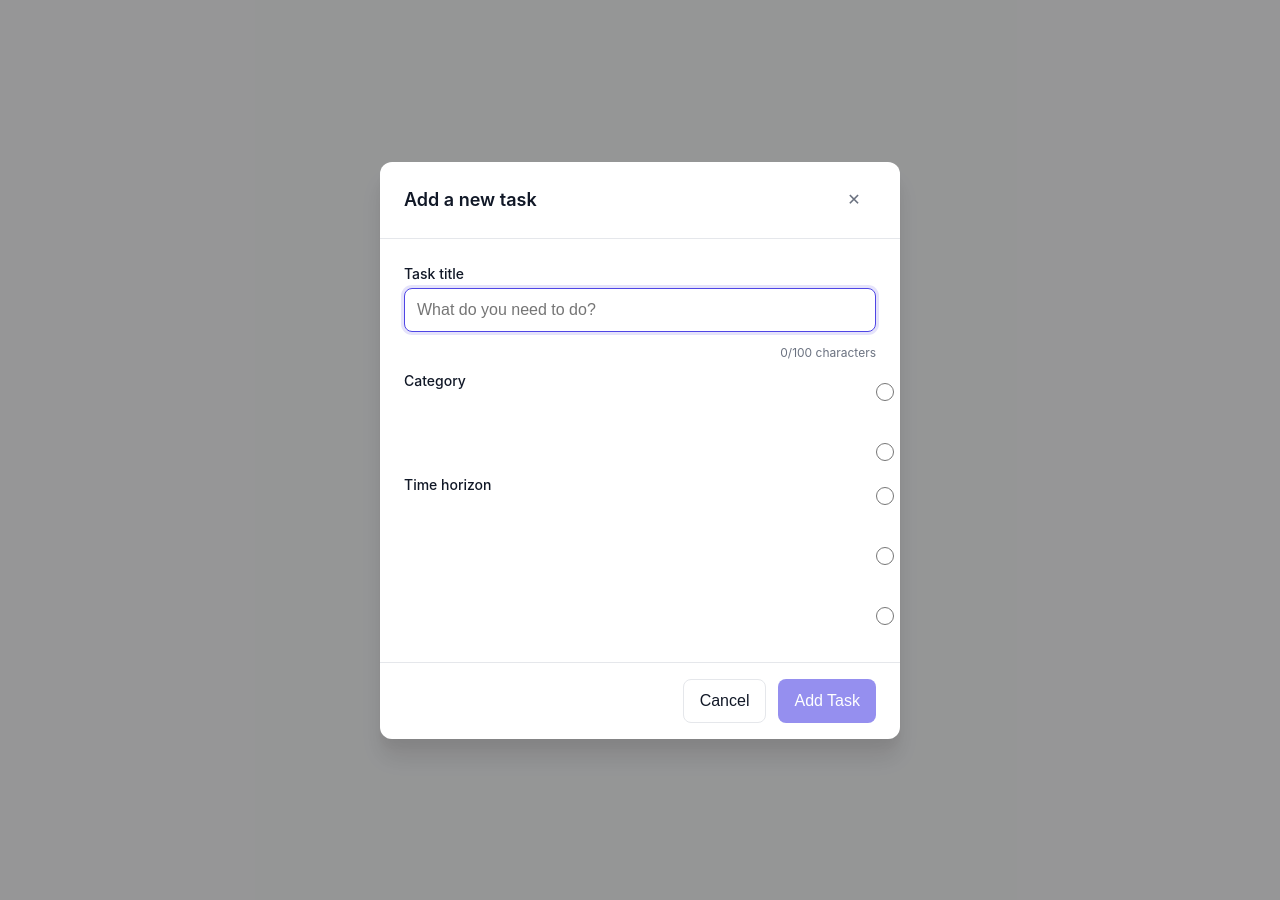
Scenario: CreateTaskModal — submission › supports PROFESSIONAL category and WEEKLY timeframe
This screenshot has width=1280, height=900.
Type "Work task" into the field with placeholder "What do you need to do?" at coordinates (640, 310), box [404, 288, 876, 332]
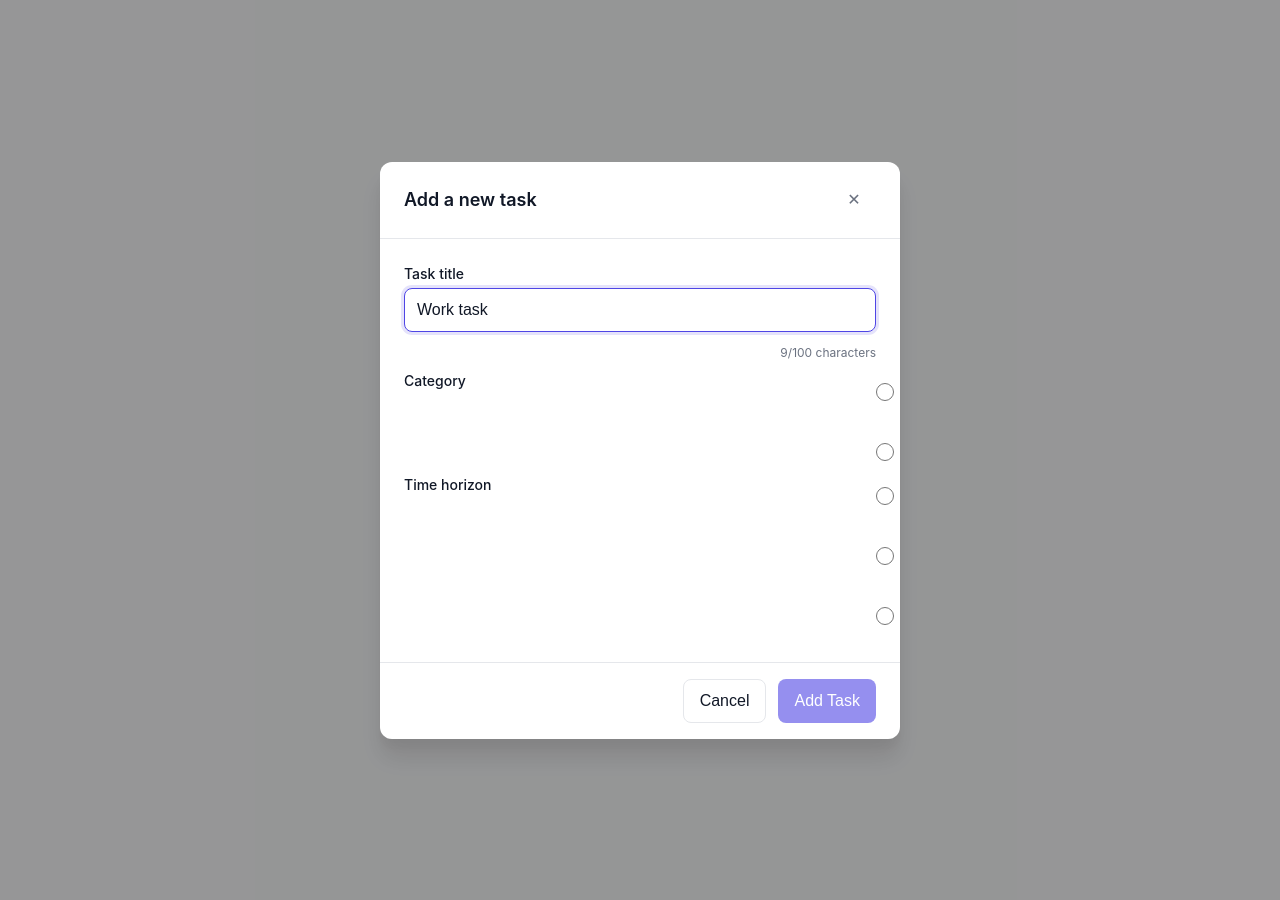
Click the radio button labelled "Professional" at coordinates (885, 452), box [876, 442, 894, 460]
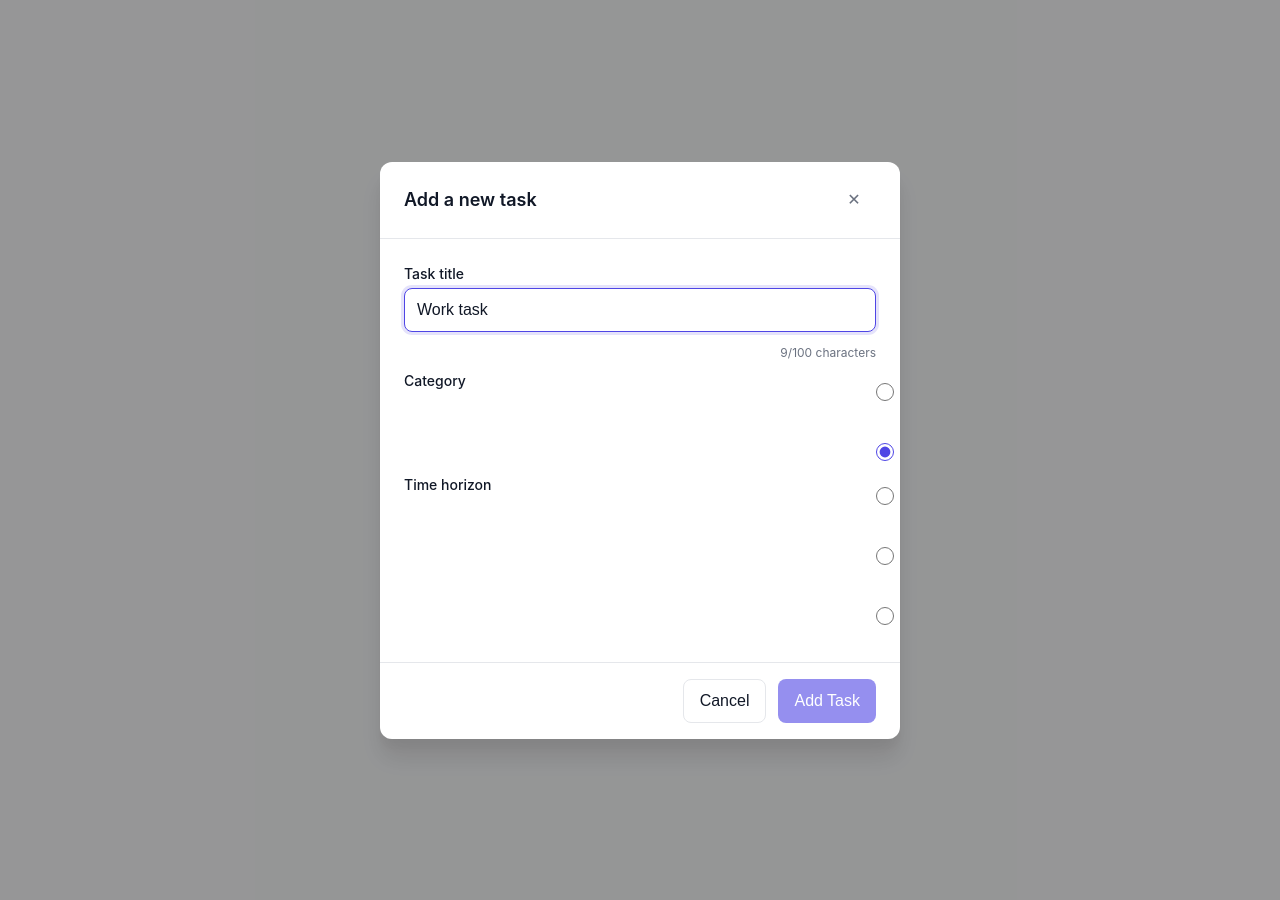
Click the radio button labelled "Weekly" at coordinates (885, 556), box [876, 546, 894, 564]
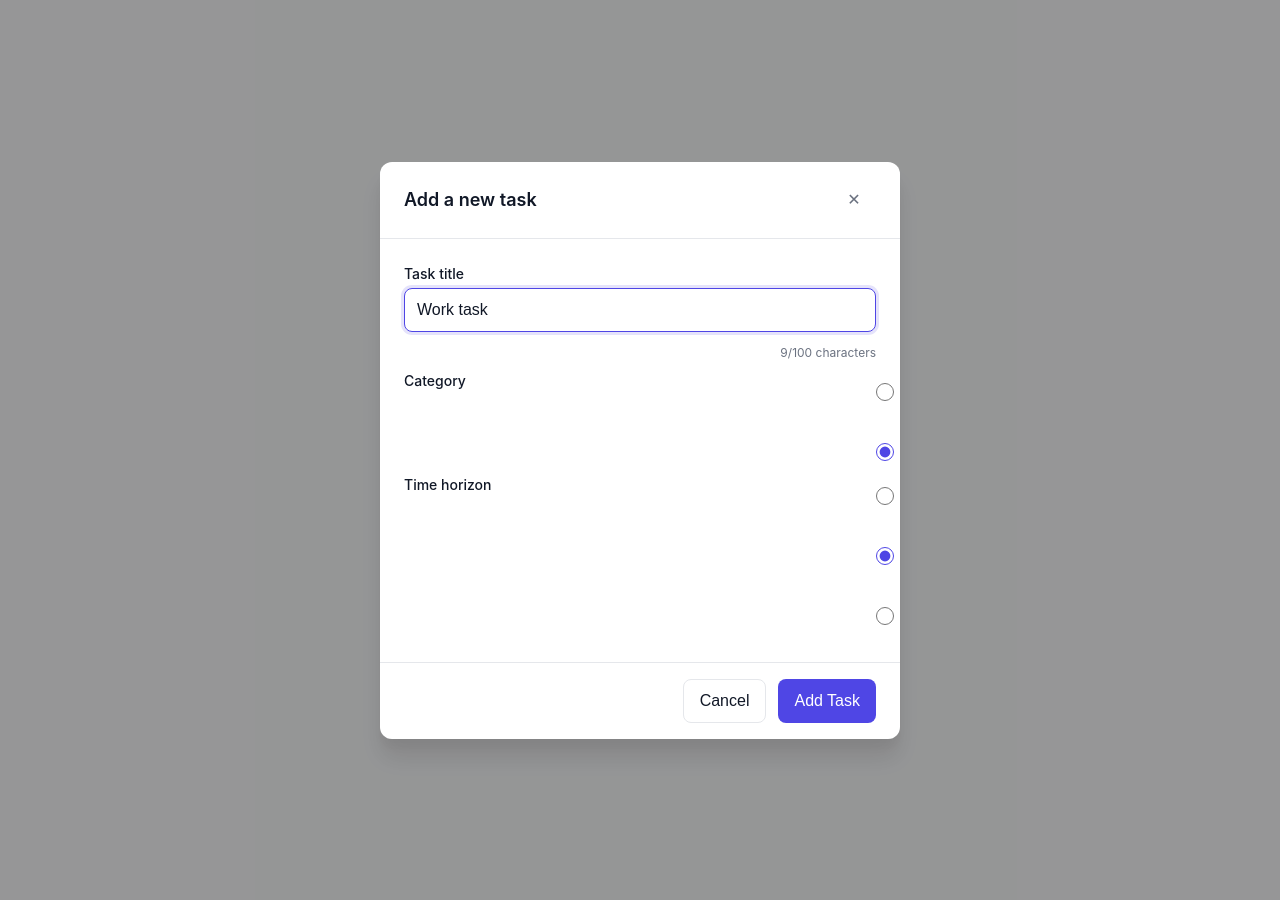
Result: the button "Add Task" is enabled at [778, 678, 876, 722]
